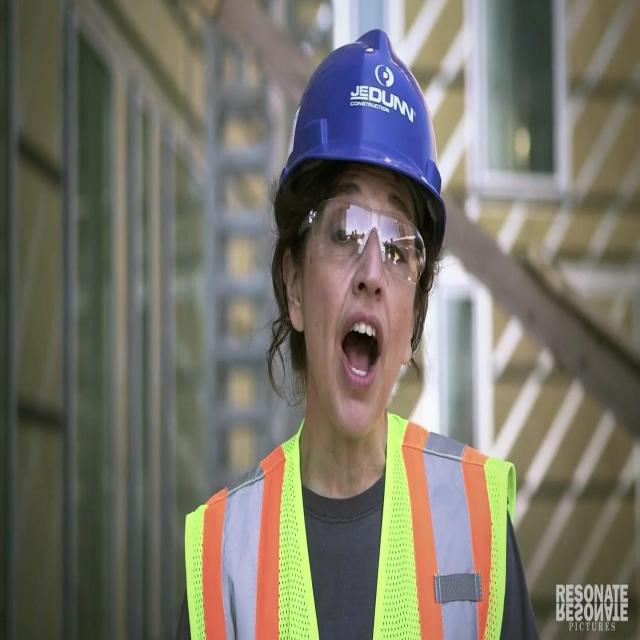Vest: (180, 407, 518, 638)
